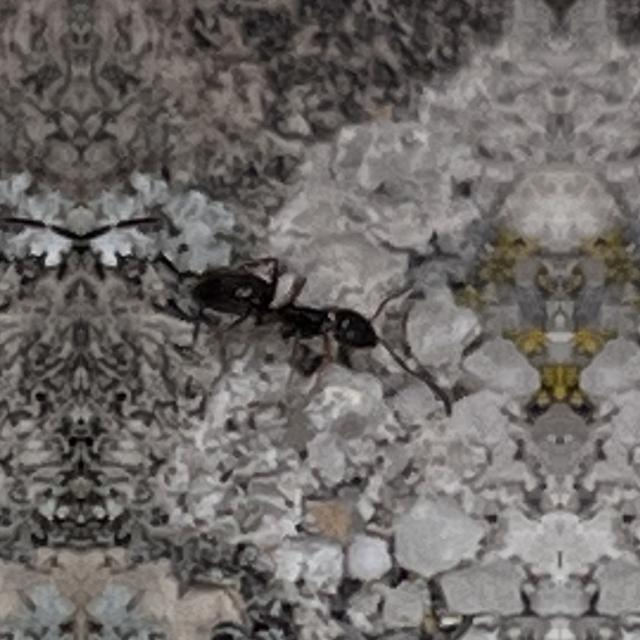Tapinoma: (146, 213, 432, 413)
